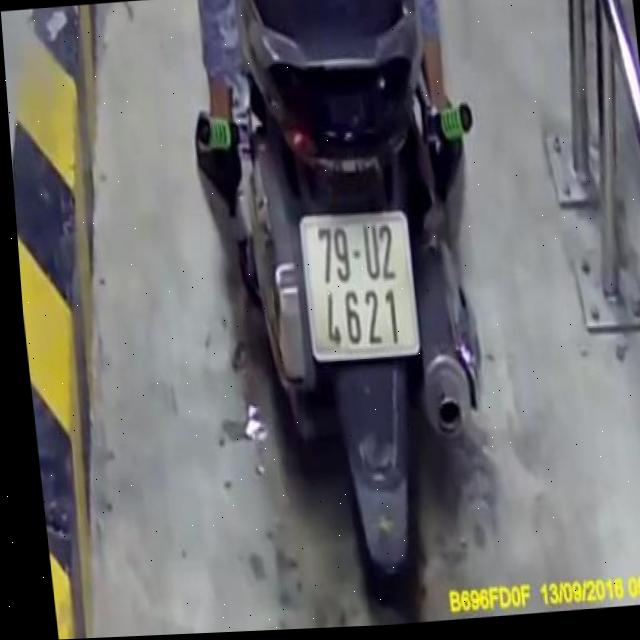motorcycle: (208, 0, 519, 617)
plate: (293, 204, 428, 369)
